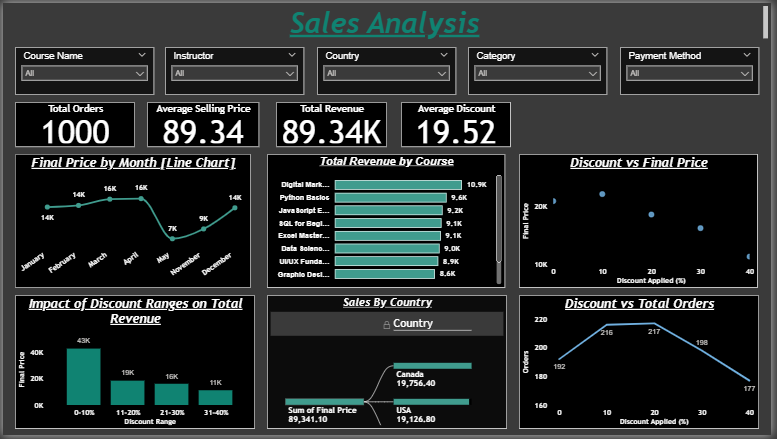

This screenshot's page, from the dashboard's own definition file:
{"tool":"powerbi","page":{"name":"Sales Analysis","canvas":[1280,720],"ordinal":0},"visuals":[{"type":"slicer","fields":{"Values":["online_course_sales_dataset.Course Name"]},"box":[19.8,72.6,232,80],"z":0},{"type":"slicer","fields":{"Values":["online_course_sales_dataset.Country"]},"box":[523.8,72.6,232,80],"z":1000},{"type":"slicer","fields":{"Values":["online_course_sales_dataset.Instructor"]},"box":[270.3,72.6,232,80],"z":2000},{"type":"slicer","fields":{"Values":["online_course_sales_dataset.Category"]},"box":[775.8,72.6,232,80],"z":3000},{"type":"slicer","fields":{"Values":["online_course_sales_dataset.Payment Method"]},"box":[1027.8,72.6,232,80],"z":4000},{"type":"card","title":"Total Revenue ","fields":{"Values":["Sum(online_course_sales_dataset.Final Price)"]},"box":[455,165,185,75],"z":5000},{"type":"textbox","box":[0,0,1279.8,72.3],"z":6000},{"type":"card","title":"Average Discount","fields":{"Values":["Avg(online_course_sales_dataset.Discount Applied (%))"]},"box":[663.3,165,183.3,75],"z":7000},{"type":"card","title":"Average Selling Price","fields":{"Values":["Avg(online_course_sales_dataset.Final Price)"]},"box":[240,165,186.7,75],"z":8000},{"type":"scatterChart","title":"Discount vs Final Price","fields":{"X":["online_course_sales_dataset.Discount Applied (%)"],"Y":["Sum(online_course_sales_dataset.Final Price)"]},"box":[860,251.7,398.3,223.3],"z":9000},{"type":"columnChart","title":"Impact of Discount Ranges on Total Revenue","fields":{"Category":["online_course_sales_dataset.Discount Range"],"Y":["Sum(online_course_sales_dataset.Final Price)"]},"box":[20,486.7,400,223.3],"z":10000},{"type":"lineChart","title":"Discount vs Total Orders","fields":{"Category":["online_course_sales_dataset.Discount Applied (%)"],"Y":["CountNonNull(online_course_sales_dataset.Order ID)"]},"box":[860,486.7,400,223.3],"z":11000},{"type":"clusteredBarChart","title":"Total Revenue by Course","fields":{"Category":["online_course_sales_dataset.Course Name"],"Y":["Sum(online_course_sales_dataset.Final Price)"]},"box":[440,251.7,396.7,223.3],"z":12000},{"type":"lineChart","title":"Final Price by Month [Line Chart]","fields":{"Y":["Sum(online_course_sales_dataset.Final Price)"],"Category":["online_course_sales_dataset.Purchase Date.Variation.Date Hierarchy.Month"]},"box":[20,251.7,393.3,223.3],"z":13000},{"type":"card","title":"Total Orders","fields":{"Values":["Count(online_course_sales_dataset.Order ID)"]},"box":[20,165,200,75],"z":14000},{"type":"decompositionTreeVisual","title":"Sales By Country","fields":{"ExplainBy":["online_course_sales_dataset.Country"],"Analyze":["Sum(online_course_sales_dataset.Final Price)"]},"box":[440,486.7,400,223.3],"z":16000}]}

Visuals, with their boxes in screenshot pixels (x1, y1, x2, y2), scaled from the page's 1280x720 canvas onto the 777x439 screenshot:
slicer - online_course_sales_dataset.Course Name: pyautogui.locateOnScreen(12, 44, 153, 93)
slicer - online_course_sales_dataset.Country: pyautogui.locateOnScreen(318, 44, 459, 93)
slicer - online_course_sales_dataset.Instructor: pyautogui.locateOnScreen(164, 44, 305, 93)
slicer - online_course_sales_dataset.Category: pyautogui.locateOnScreen(471, 44, 612, 93)
slicer - online_course_sales_dataset.Payment Method: pyautogui.locateOnScreen(624, 44, 765, 93)
"Total Revenue " card: pyautogui.locateOnScreen(276, 101, 388, 146)
textbox: pyautogui.locateOnScreen(0, 0, 776, 44)
"Average Discount" card: pyautogui.locateOnScreen(403, 101, 514, 146)
"Average Selling Price" card: pyautogui.locateOnScreen(146, 101, 259, 146)
"Discount vs Final Price" scatterChart: pyautogui.locateOnScreen(522, 153, 764, 290)
"Impact of Discount Ranges on Total Revenue" columnChart: pyautogui.locateOnScreen(12, 297, 255, 433)
"Discount vs Total Orders" lineChart: pyautogui.locateOnScreen(522, 297, 765, 433)
"Total Revenue by Course" clusteredBarChart: pyautogui.locateOnScreen(267, 153, 508, 290)
"Final Price by Month [Line Chart]" lineChart: pyautogui.locateOnScreen(12, 153, 251, 290)
"Total Orders" card: pyautogui.locateOnScreen(12, 101, 134, 146)
"Sales By Country" decompositionTreeVisual: pyautogui.locateOnScreen(267, 297, 510, 433)
